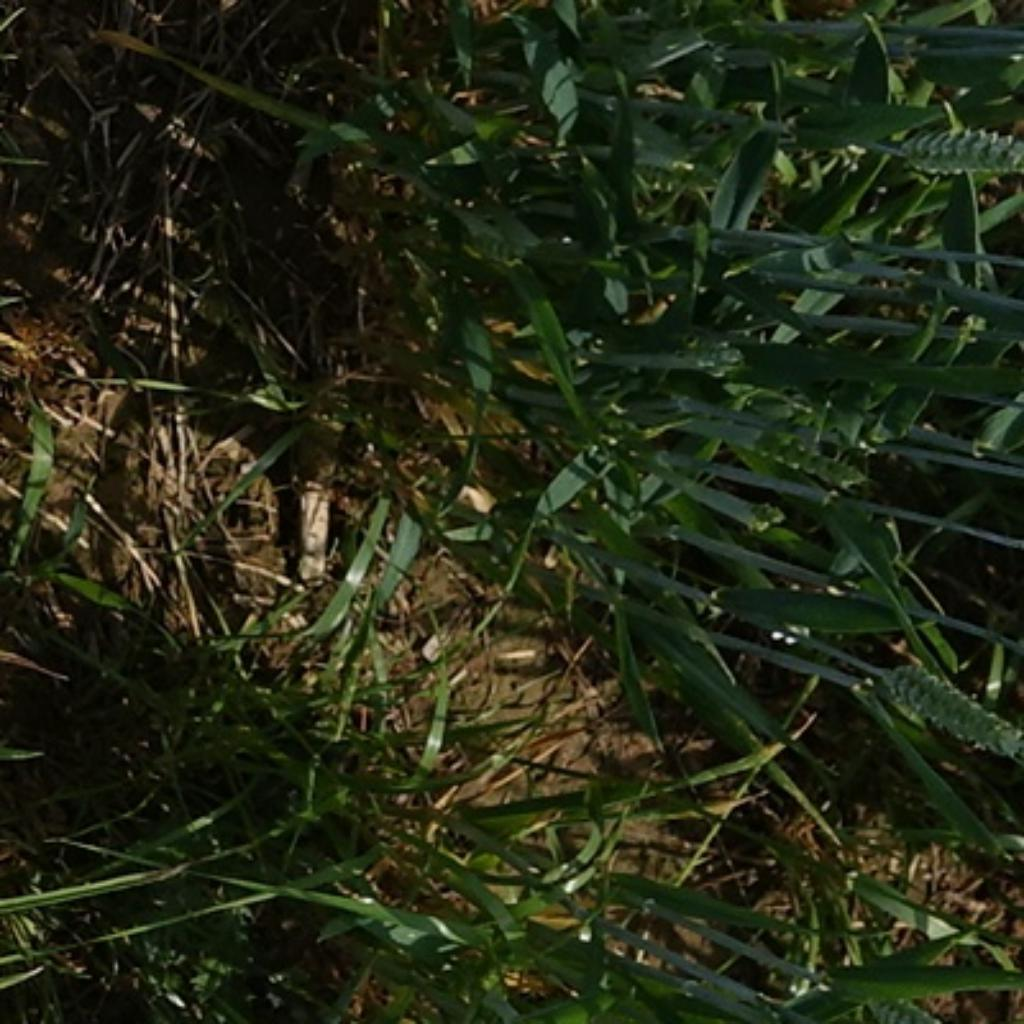0-0: (880, 657, 1024, 759), (738, 423, 870, 502), (893, 125, 1024, 186), (854, 971, 960, 1024)
